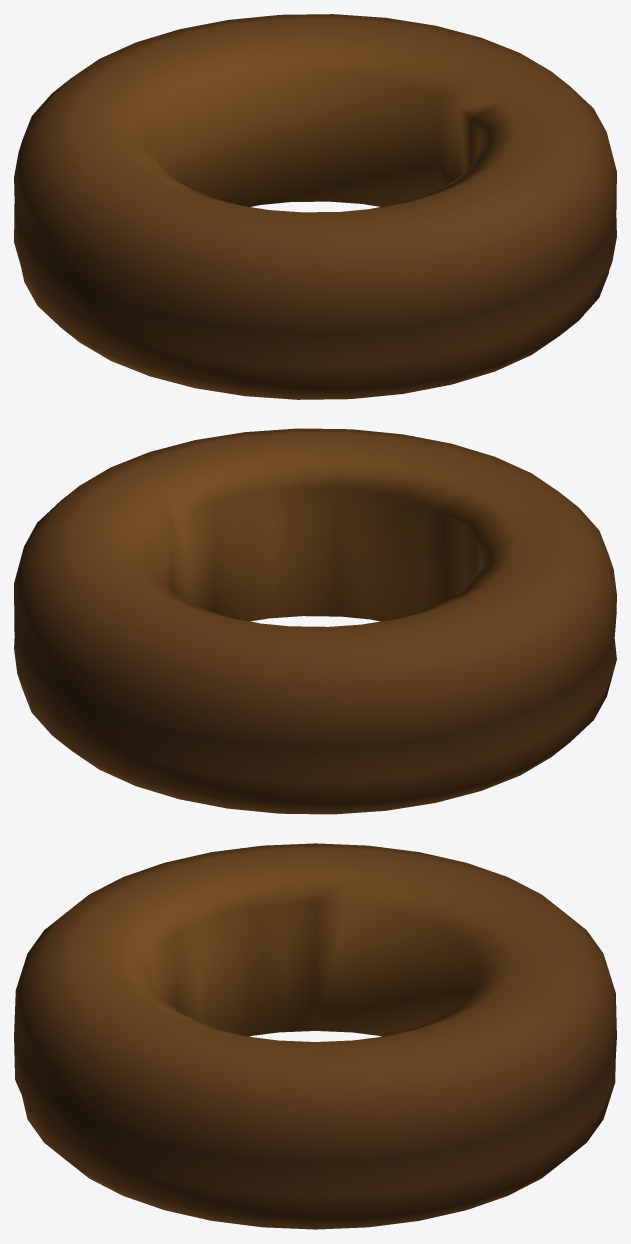
File: The tire is orange.fbx
3 views of the same model, one above another, from view 1: azimuth 30°, elevation 25°; view 2: azimuth 150°, elevation 25°; view 3: azimuth 270°, elevation 25° (orthographic).
Visible parts, largest first — view 1: Cylinder.011; view 2: Cylinder.011; view 3: Cylinder.011.
Boxes of the visible parts, <box> form: Cylinder.011: <box>14,14,616,399</box>; Cylinder.011: <box>14,428,616,814</box>; Cylinder.011: <box>14,843,616,1229</box>.
Size of the model in its own units: 254 by 78.99 by 254.
